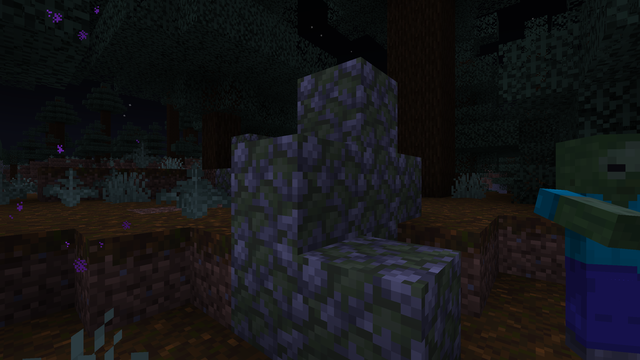zombies: (559, 140, 636, 359)
